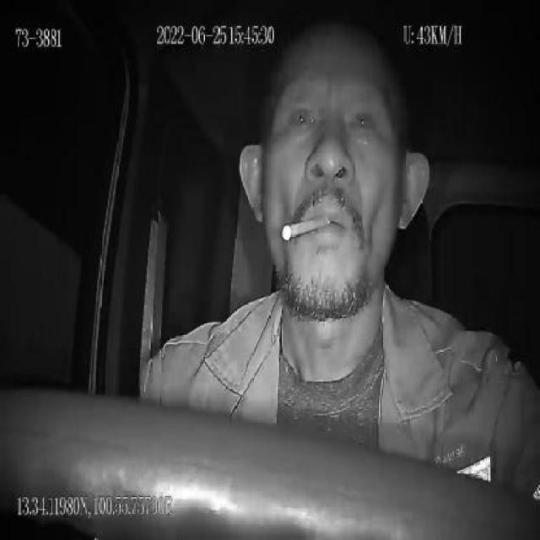smoking: (281, 217, 331, 240)
